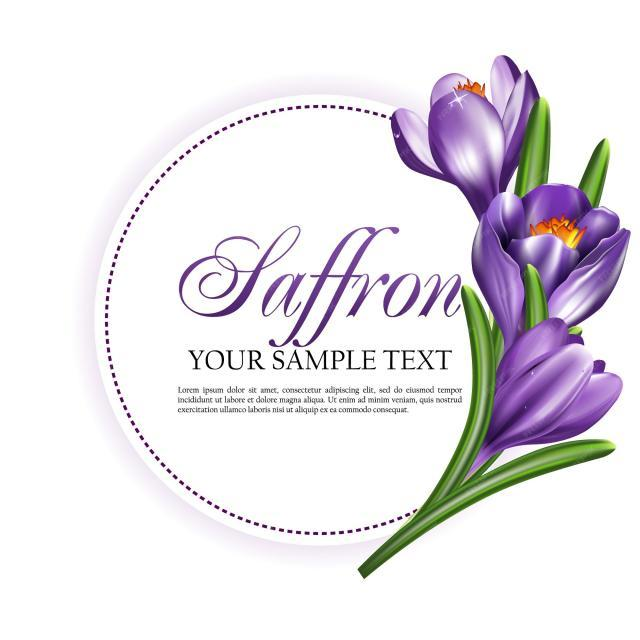Flower: (382, 70, 565, 204), (483, 189, 634, 320), (473, 331, 622, 461)
